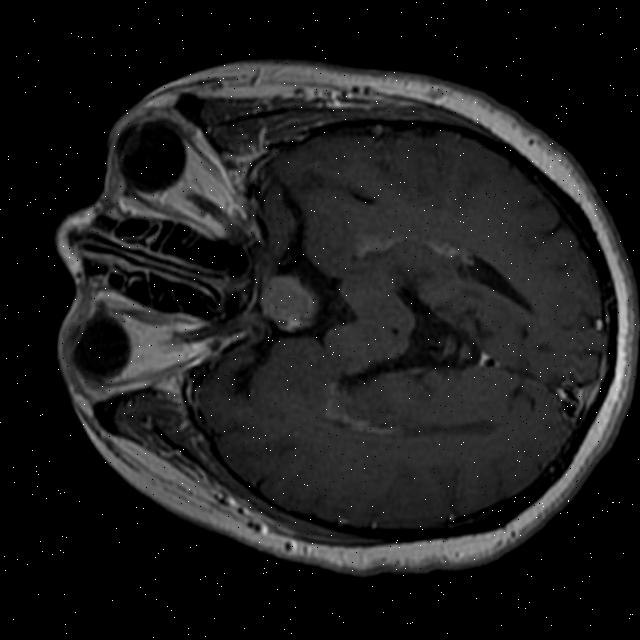Pituitary: (251, 268, 324, 337)
